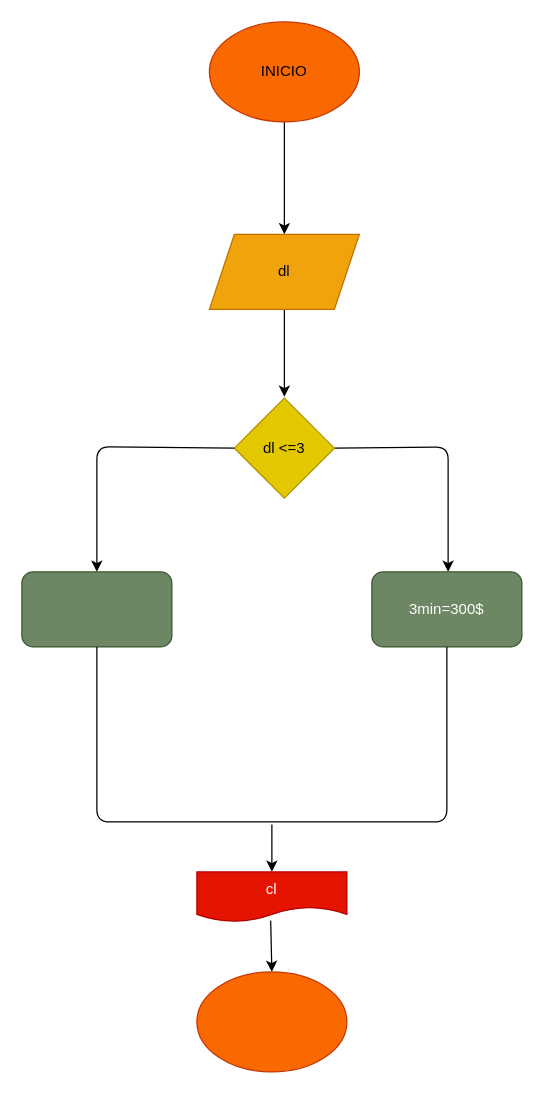
Some shapes in this 544 by 1094 pixel diagram are drawn without their labels. Each missing label, with the centre of its shape:
dl - 3 cl = 300 + (50*3): [96,609]
FIN: [271,1021]
